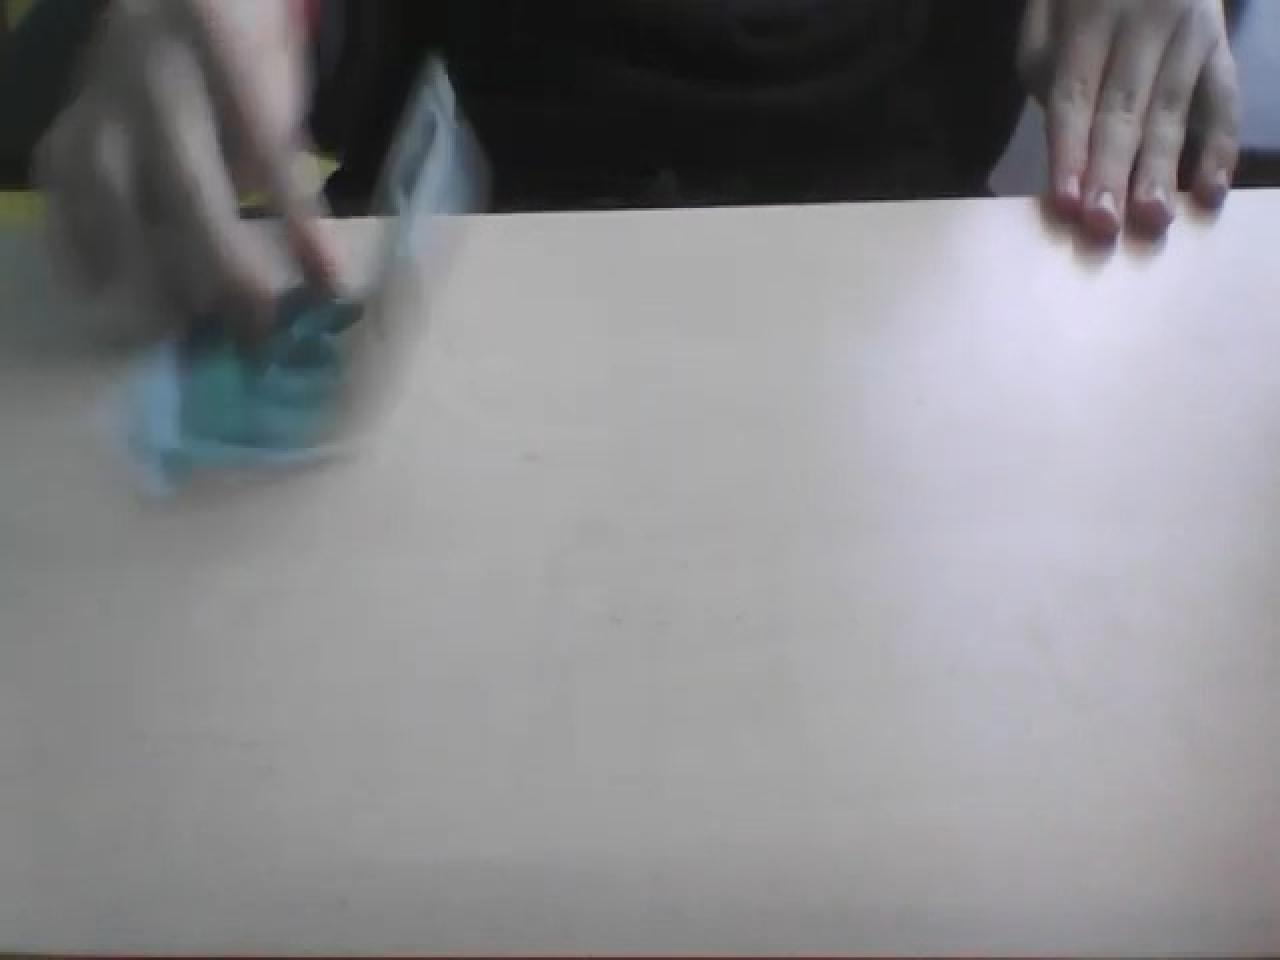100leva: (126, 208, 426, 493)
